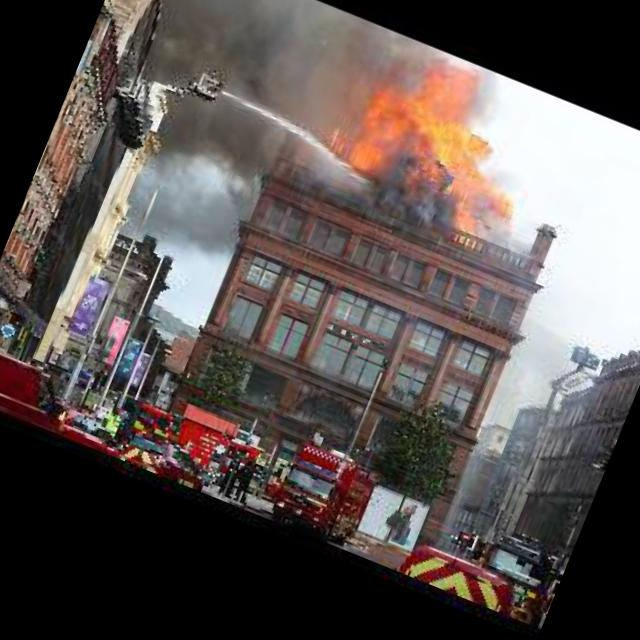fire: (333, 38, 561, 250)
smoke: (57, 0, 403, 224), (361, 146, 464, 244)
